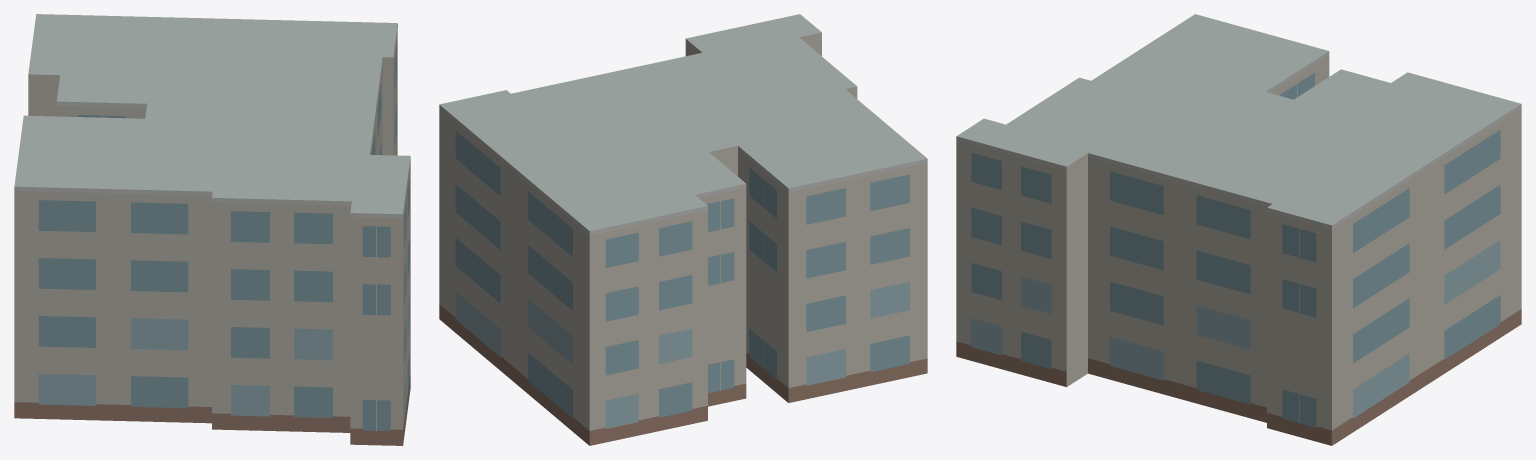
The model's file is survey-upis-32812307.glb.
3 renders of one model, left to right at view 1: azimuth 30°, elevation 25°; view 2: azimuth 150°, elevation 25°; view 3: azimuth 270°, elevation 25°, orthographic. The views are drawn at different scales.
Parts seen in each view (by area): view 1: survey-upis-32812307.tmp; view 2: survey-upis-32812307.tmp; view 3: survey-upis-32812307.tmp.
Part boxes in pixels (left/top/right/bottom): survey-upis-32812307.tmp: left=14, top=14, right=410, bottom=445; survey-upis-32812307.tmp: left=439, top=14, right=927, bottom=445; survey-upis-32812307.tmp: left=956, top=14, right=1521, bottom=445.
Bounding box in the file's own units: 26.74 × 13 × 30.21.
